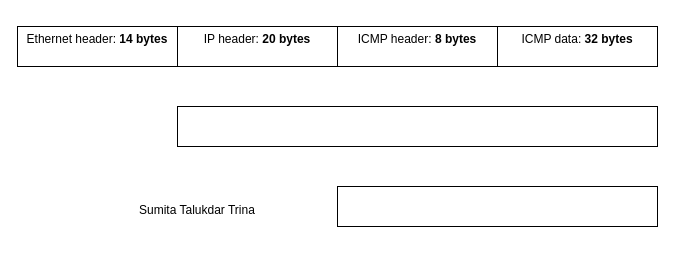
Some shapes in this 675 by 253 pixel diagram are drawn without their labels. The shapes that lost their labels are listed below. From the top down, each one's box as (x1, y1, x2, y2) in pixels, then its label:
(176, 106, 658, 146): IP datagram: 60 bytes
(336, 186, 658, 226): ICMP message: 40 bytes
